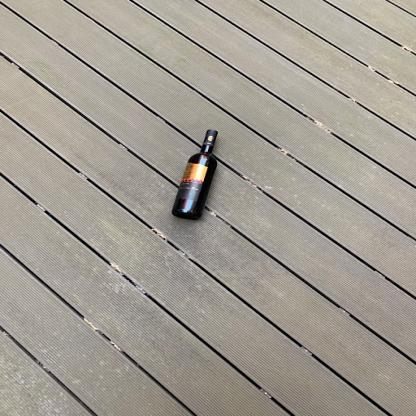trash: (168, 127, 224, 221)
